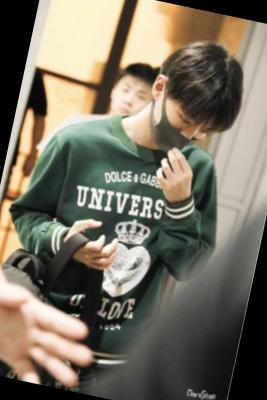with_mask: (150, 97, 219, 162)
without_mask: (108, 80, 156, 126)
